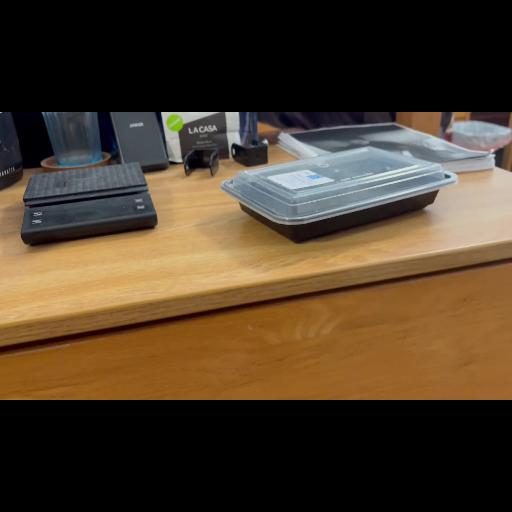rigid_plastic_container: (207, 146, 469, 244)
